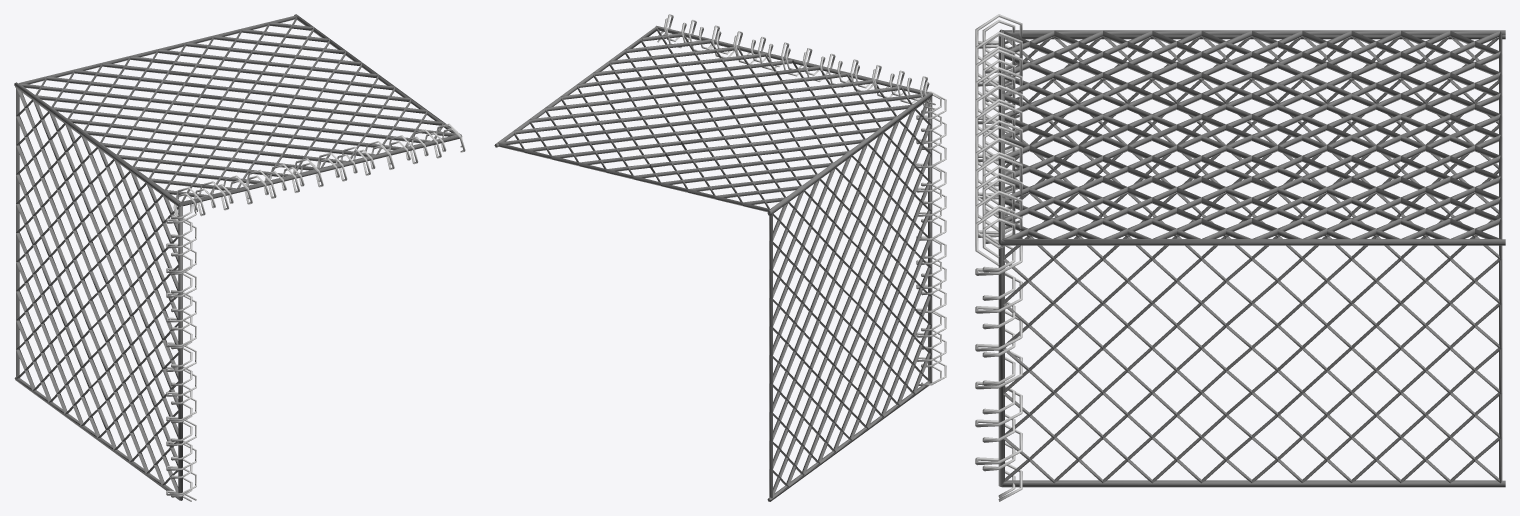
The model's file is chainlink_corner.fbx.
3 views of the same model, side by side, from view 1: azimuth 30°, elevation 25°; view 2: azimuth 150°, elevation 25°; view 3: azimuth 270°, elevation 25° (orthographic). The views are drawn at different scales.
Visible parts, largest first — view 1: Plane01_None, Plane01_None.001, Spring01_None.001, Spring01_None, Spring02_None, Spring02_None.001, Cylinder02_None.001, Cylinder02_None, Cylinder01_None.001, Cylinder03_None.001; view 2: Plane01_None, Plane01_None.001, Spring01_None, Spring01_None.001, Spring02_None, Spring02_None.001, Cylinder01_None.001, Cylinder02_None, Cylinder02_None.001, Cylinder03_None.001; view 3: Plane01_None.001, Plane01_None, Spring01_None.001, Cylinder03_None.001, Spring02_None.001, Spring01_None, Cylinder01_None, Spring02_None, Cylinder02_None, Cylinder03_None, Cylinder02_None.001.
Part boxes in pixels (x1,y1,x2,y2): Plane01_None: (16,87,179,497); Plane01_None.001: (18,15,459,202); Spring01_None.001: (173,123,465,221); Spring01_None: (166,202,196,500); Spring02_None: (171,203,192,501); Spring02_None.001: (175,128,462,216); Cylinder02_None.001: (179,134,462,206); Cylinder02_None: (179,205,182,500); Cylinder01_None.001: (14,82,180,205); Cylinder03_None.001: (294,14,460,134); Plane01_None: (769,97,931,498); Plane01_None.001: (497,26,928,212); Spring01_None: (916,91,946,385); Spring01_None.001: (657,14,935,109); Spring02_None: (921,93,941,383); Spring02_None.001: (658,18,935,105); Cylinder01_None.001: (768,93,932,214); Cylinder02_None: (928,96,932,382); Cylinder02_None.001: (655,25,932,95); Cylinder03_None.001: (494,27,657,147); Plane01_None.001: (1002,30,1502,239); Plane01_None: (1003,37,1502,483); Spring01_None.001: (975,14,1022,266); Cylinder03_None.001: (1002,239,1505,245); Spring02_None.001: (982,19,1015,258); Spring01_None: (975,41,1022,501); Cylinder01_None: (1002,480,1505,487); Spring02_None: (982,40,1015,497); Cylinder02_None: (998,245,1004,486); Cylinder03_None: (1005,35,1505,39); Cylinder02_None.001: (998,29,1004,245).
Bounding box in the file's own units: 61.67 × 62.64 × 62.33.
Materials: 1 (1 with a texture image).
